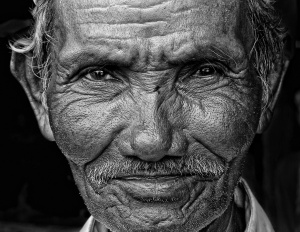Forehead: (46, 1, 250, 60)
